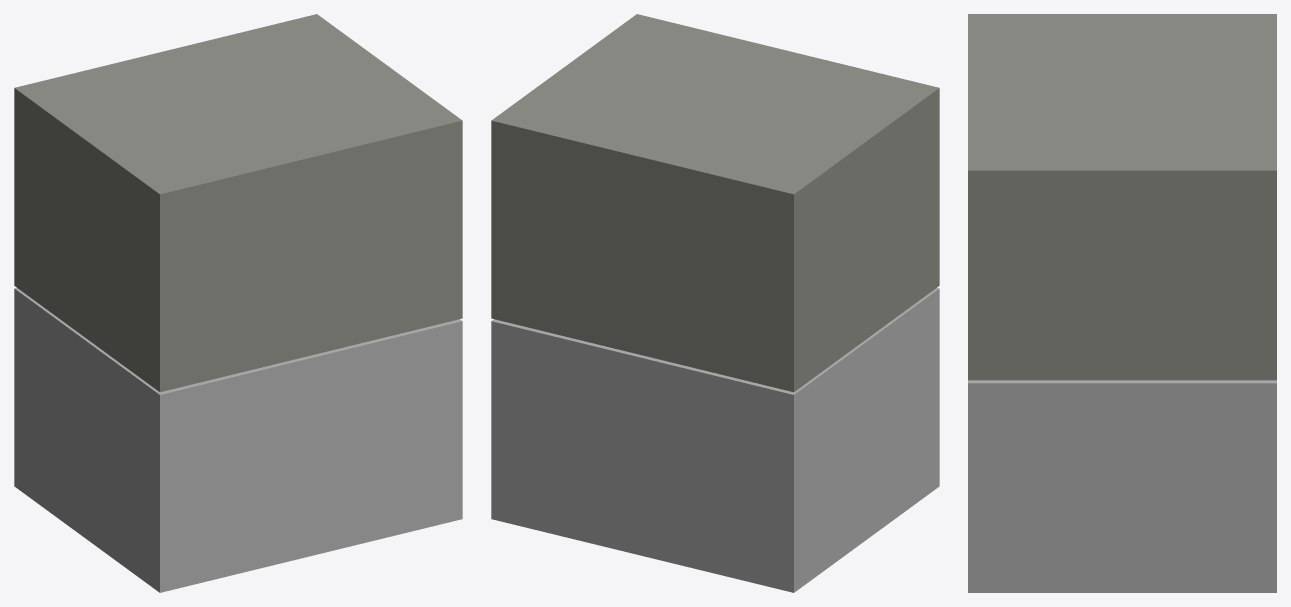
File: SM_Palots_v0_Pila2_LOD1.fbx
The picture shows the model from 3 angles, left to right: view 1: azimuth 30°, elevation 25°; view 2: azimuth 150°, elevation 25°; view 3: azimuth 270°, elevation 25°; orthographic projection. The views are drawn at different scales.
Visible parts, largest first — view 1: SM_viveres_nules_v20_LOD1; view 2: SM_viveres_nules_v20_LOD1; view 3: SM_viveres_nules_v20_LOD1.
Part boxes in pixels (x1,y1,x2,y2): SM_viveres_nules_v20_LOD1: [14, 14, 462, 592]; SM_viveres_nules_v20_LOD1: [491, 14, 939, 592]; SM_viveres_nules_v20_LOD1: [968, 14, 1276, 592].
Size of the model in its own units: 1.2 by 1.51 by 1.
